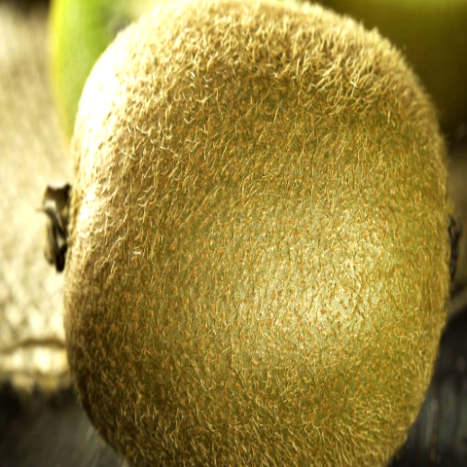kiwi: (21, 4, 464, 466)
